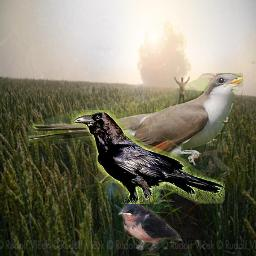Crow: (71, 110, 225, 204)
Cuckoo: (28, 73, 243, 183)
Swallow: (118, 202, 182, 251)
